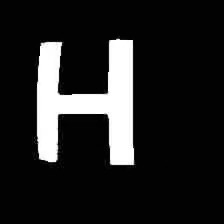LTR_H: (28, 27, 140, 169)
